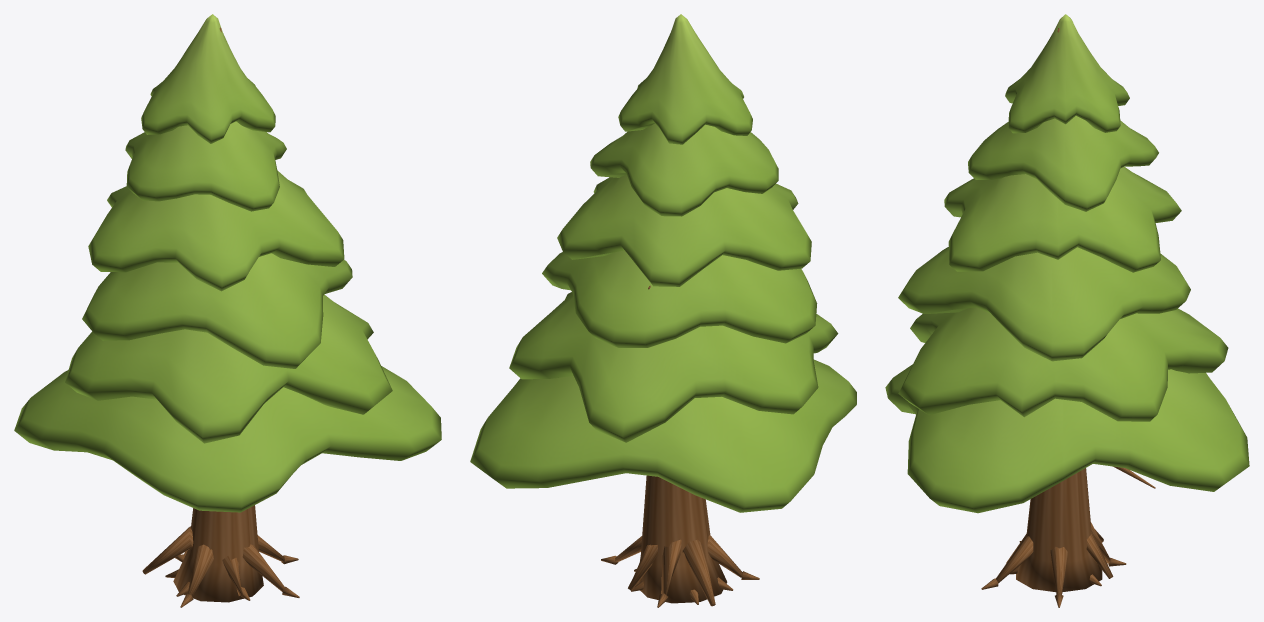
The model's file is SoftPine_LOD0.glb.
The picture shows the model from 3 angles, left to right: view 1: azimuth 30°, elevation 25°; view 2: azimuth 150°, elevation 25°; view 3: azimuth 270°, elevation 25°; orthographic projection. The views are drawn at different scales.
Parts seen in each view (by area): view 1: SM_SoftPine_Foliage_LOD0, SM_SoftPine_Bark_LOD0; view 2: SM_SoftPine_Foliage_LOD0, SM_SoftPine_Bark_LOD0; view 3: SM_SoftPine_Foliage_LOD0, SM_SoftPine_Bark_LOD0.
Part boxes in pixels (x1,y1,x2,y2): SM_SoftPine_Foliage_LOD0: (14, 14, 441, 512); SM_SoftPine_Bark_LOD0: (142, 27, 299, 607); SM_SoftPine_Foliage_LOD0: (470, 14, 856, 512); SM_SoftPine_Bark_LOD0: (601, 285, 759, 607); SM_SoftPine_Foliage_LOD0: (885, 14, 1249, 513); SM_SoftPine_Bark_LOD0: (981, 28, 1155, 607).
Size of the model in its own units: 5.19 by 8.44 by 4.99.
Materials: 2 (2 with a texture image).
